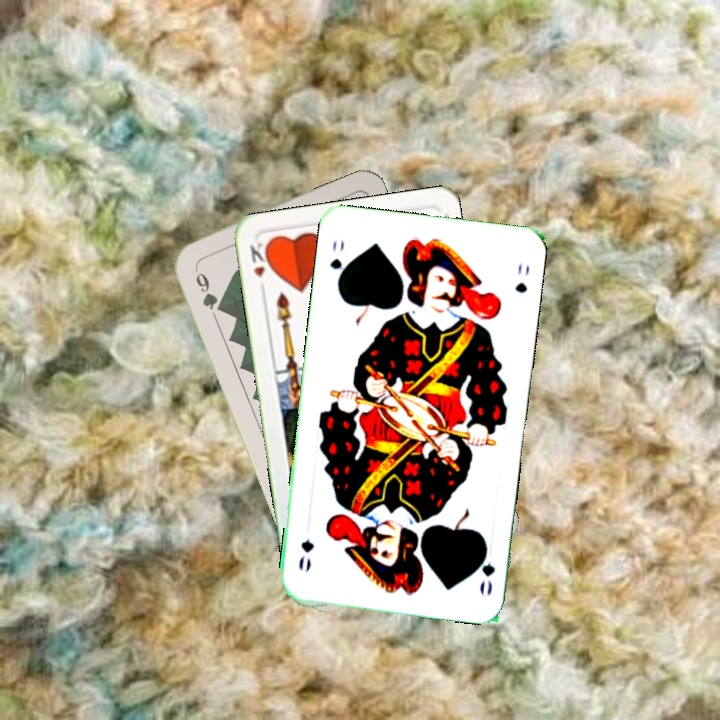G9: (190, 262, 226, 315)
GO: (473, 539, 498, 599), (325, 235, 349, 289)
HK: (245, 239, 273, 297)
